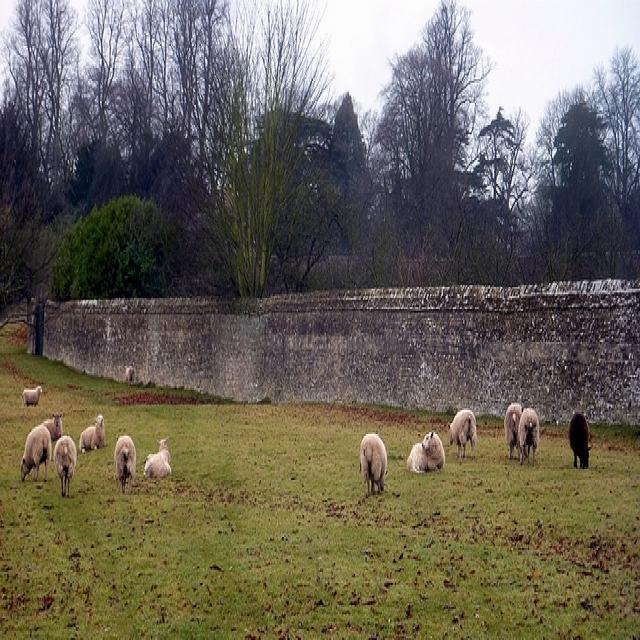cow: (568, 412, 591, 467)
